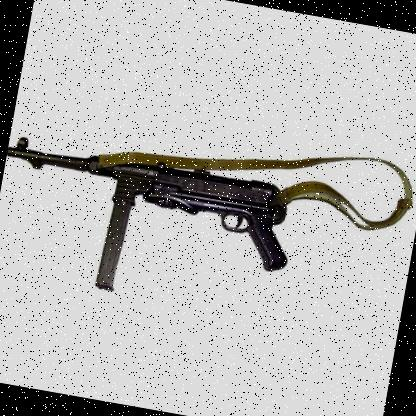rifle: (0, 103, 315, 321)
